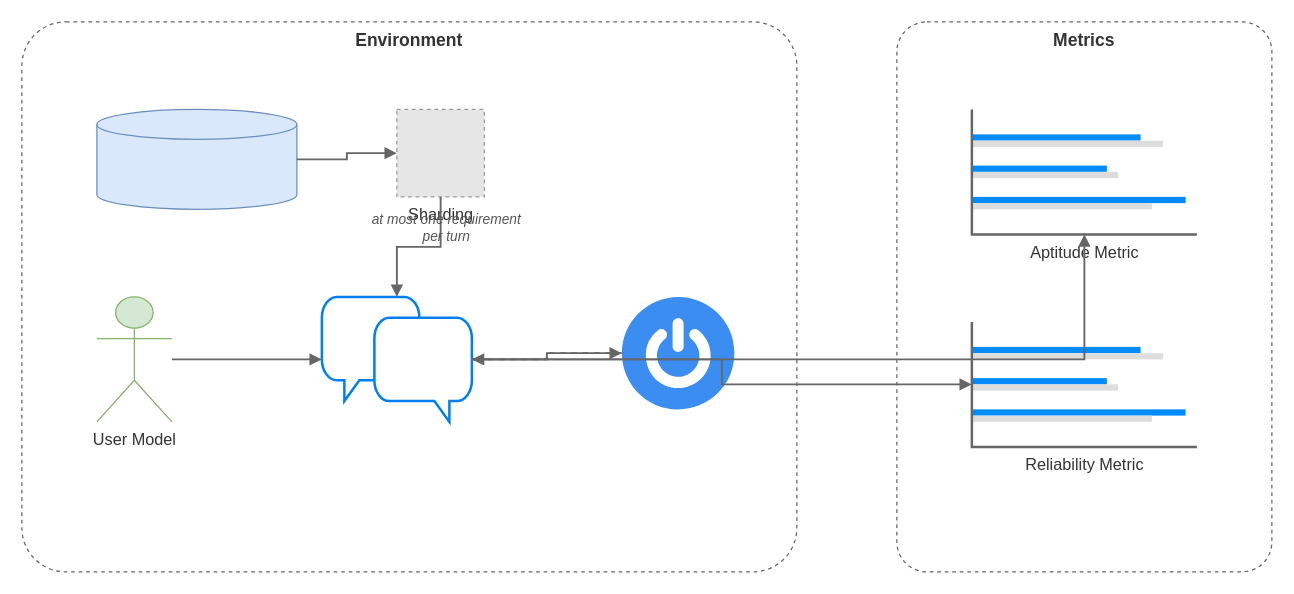
The diagram is 1294 pixels wide and 594 high, and some of its shapes have lost their labels. Grey dashed boxes stand in for pictures. The shapes that lost their labels are listed below. From the top down, each one's centre as x and y in pixels, then its label:
(x=196, y=158): Single-Turn Benchmarks
(x=396, y=358): Conversation Simulator
(x=677, y=352): LLM Under Test
